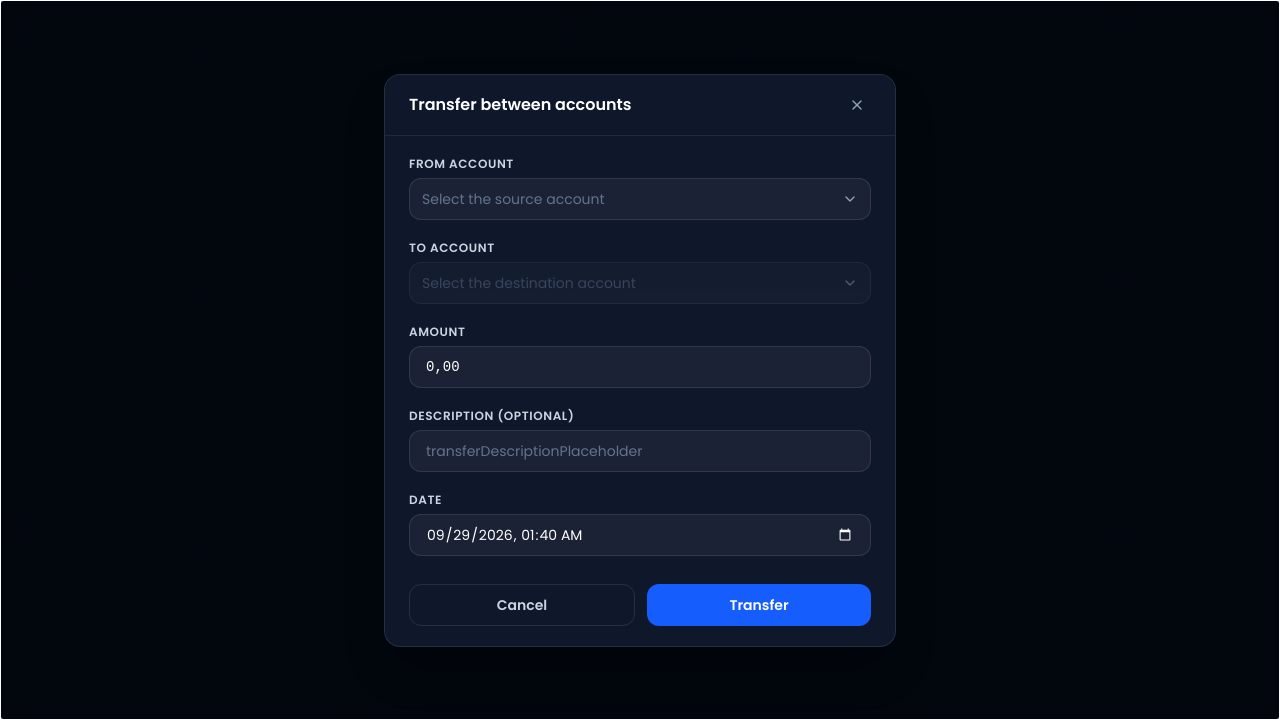
Scenario: TransferModal › should include only parent + sibling pockets when the source is a pocket
Click the dropdown named "From account".
click(513, 198)  # box [409,178,871,220]
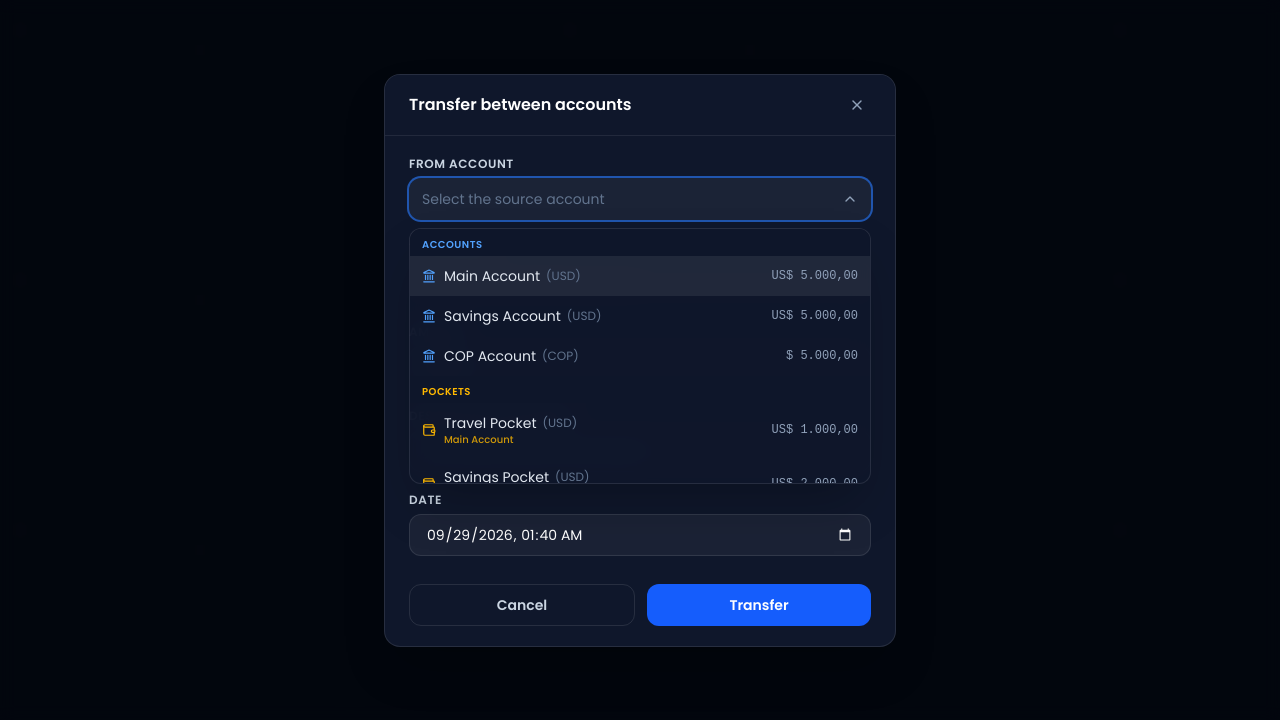
Click the option "Travel Pocket (USD) Main Account US$ 1.000,00".
click(490, 422)  # box [410,402,870,457]
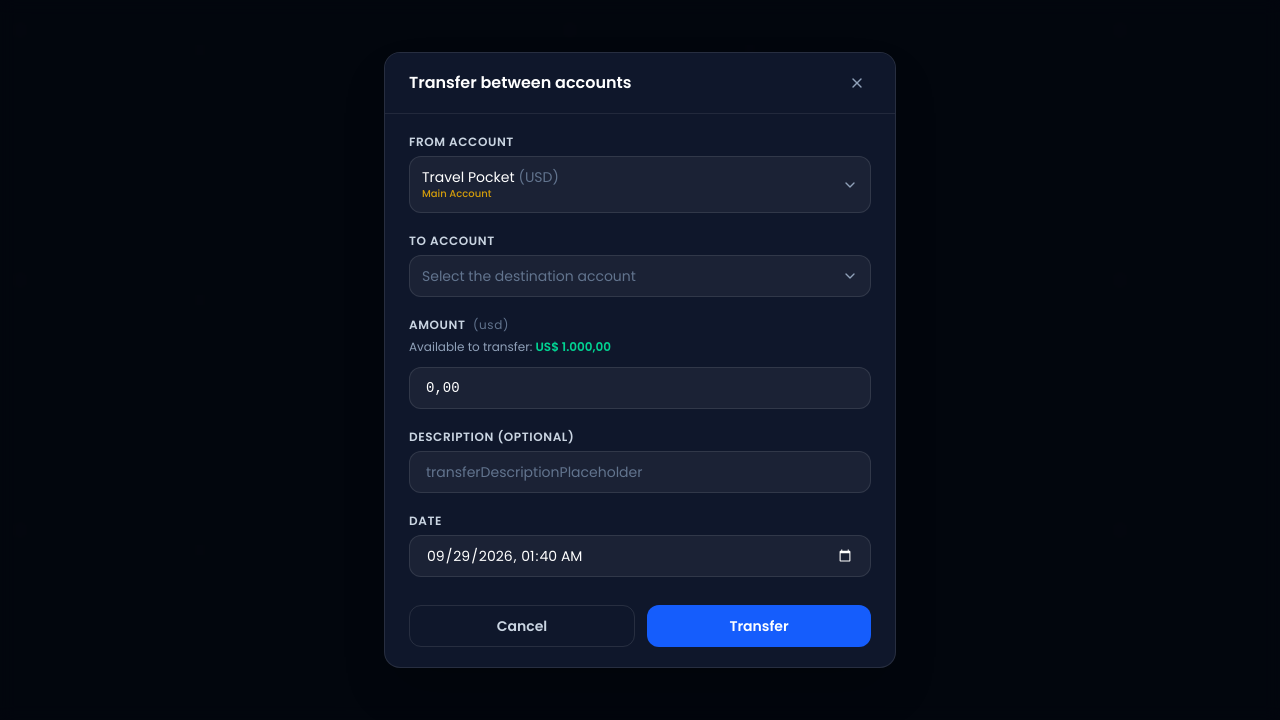
Click the dropdown named "To account".
click(529, 276)  # box [409,255,871,297]
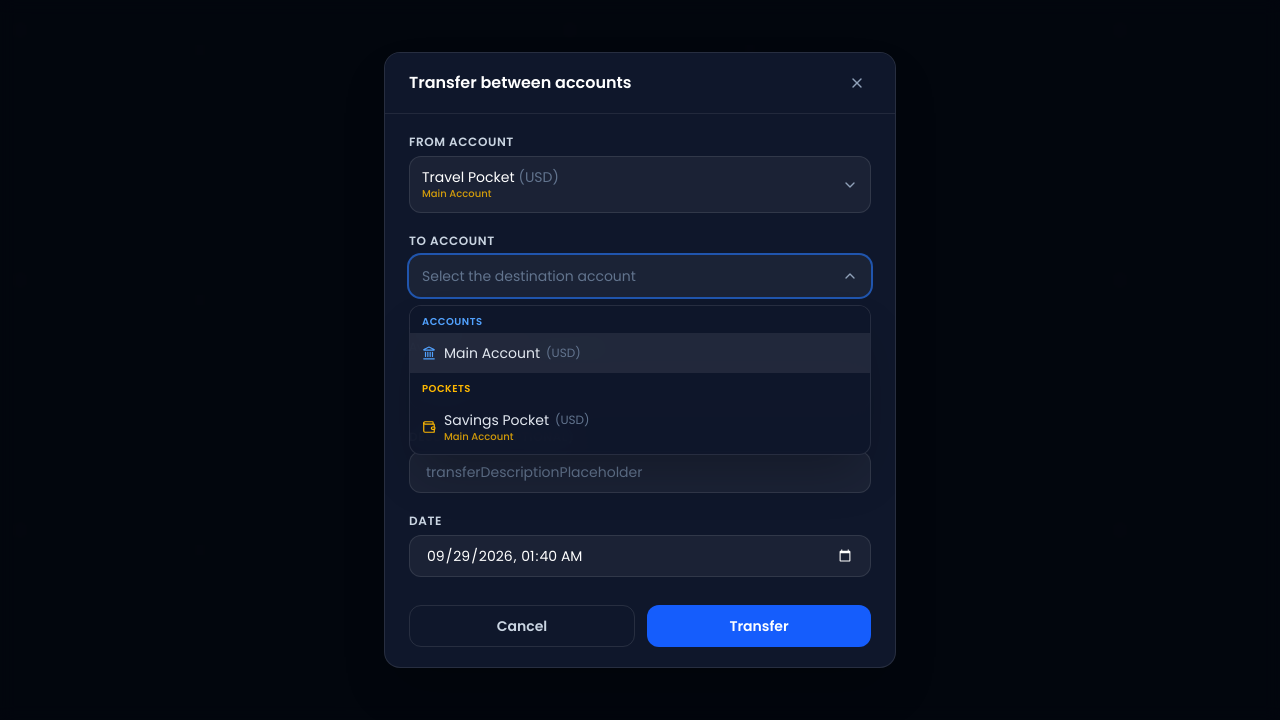
Expected: the option "Savings Account" is not shown
Expected: the option "Main Account (USD)" is shown, [410,333,870,373]
Expected: the option "Savings Pocket (USD) Main Account" is shown, [410,400,870,454]
